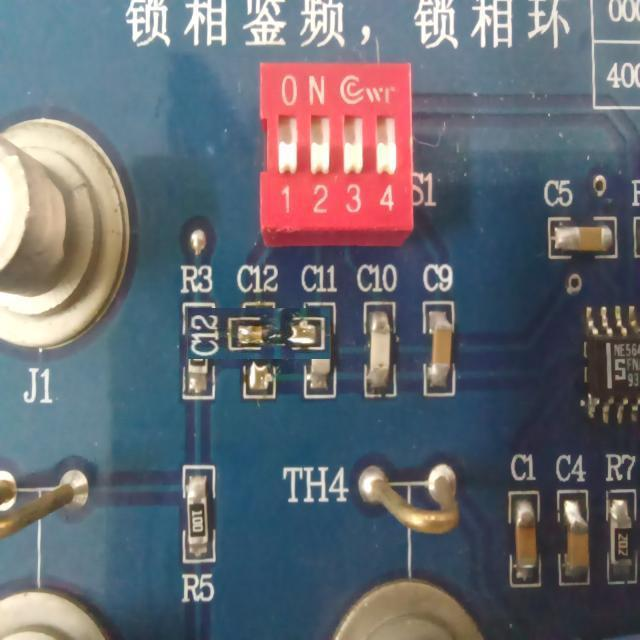miss_welding: (210, 284, 308, 382)
